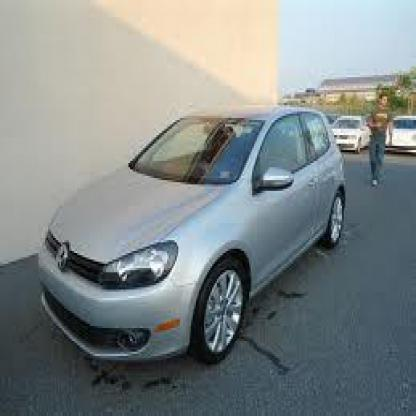Vehicle: (37, 109, 350, 369)
